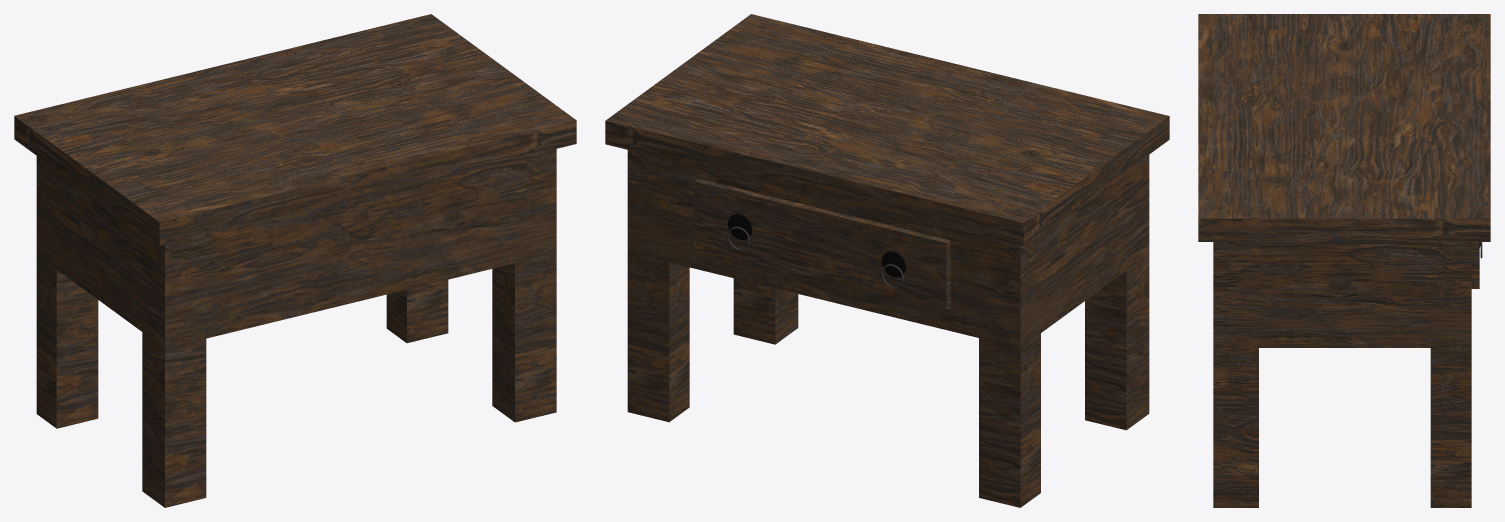
Rendered from Student Desk.FBX.
The picture shows the model from 3 angles, left to right: view 1: azimuth 30°, elevation 25°; view 2: azimuth 150°, elevation 25°; view 3: azimuth 270°, elevation 25°; orthographic projection.
Visible parts, largest first — view 1: Box001; view 2: Box001, Box002; view 3: Box001, Box002.
Part boxes in pixels (bbox=[...]): Box001: bbox=[14, 14, 576, 507]; Box001: bbox=[605, 14, 1169, 507]; Box002: bbox=[694, 178, 950, 309]; Box001: bbox=[1198, 14, 1490, 507]; Box002: bbox=[1471, 242, 1479, 288].
Size of the model in its own units: 55.75 by 37.58 by 33.67.
